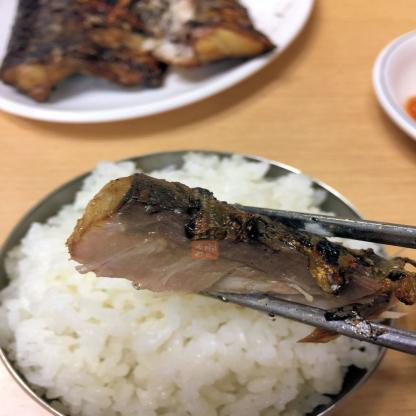Peixe: (70, 170, 416, 355), (0, 0, 311, 97)
